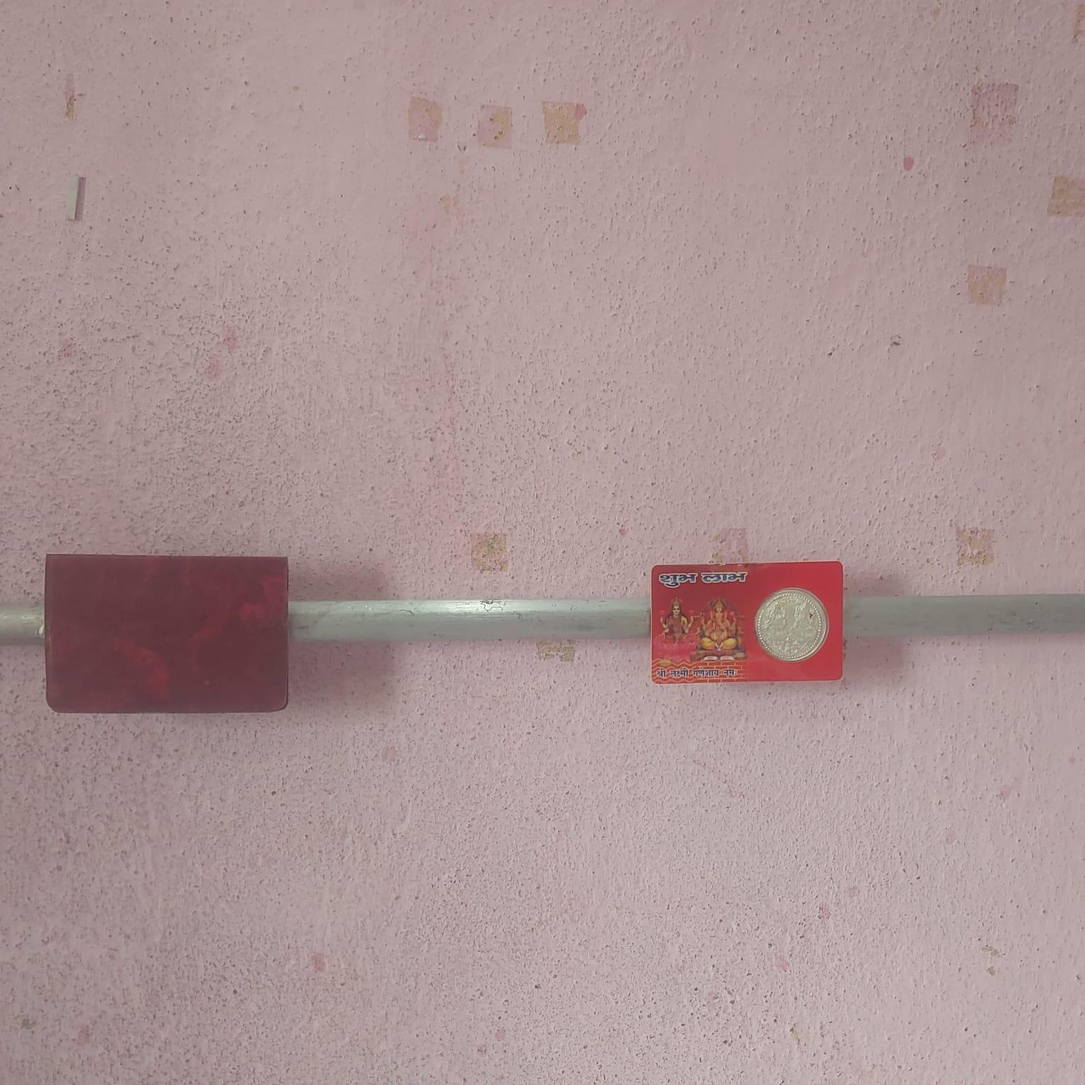blessing_card: (648, 558, 845, 687)
wallet: (42, 558, 293, 706)
